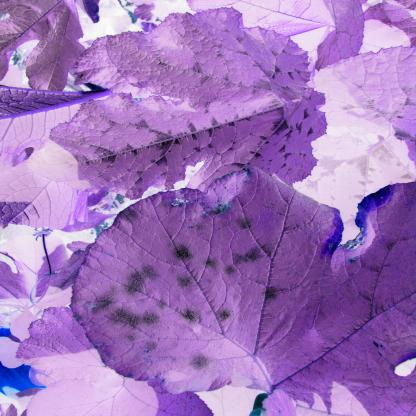squash powdery mildew leaf: (68, 179, 416, 388), (55, 4, 338, 189)
